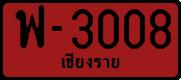letters: (14, 5, 46, 49), (69, 7, 95, 50), (148, 7, 173, 50), (96, 8, 120, 50), (123, 8, 146, 50)
province: (59, 52, 121, 72)
